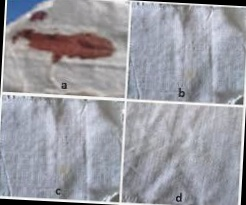blood: (11, 24, 116, 65)
